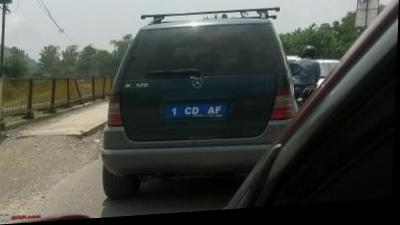License_Plate: (165, 100, 227, 120)
